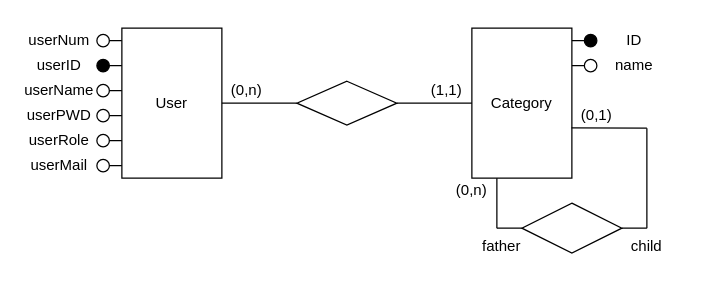
The diagram is 705 pixels wide and 286 high, and some of its shapes have lost their labels. The centre of each missing label's shape, as x and y in pixels:
"edit" goes at (x=346, y=102).
"related" goes at (x=571, y=227).
